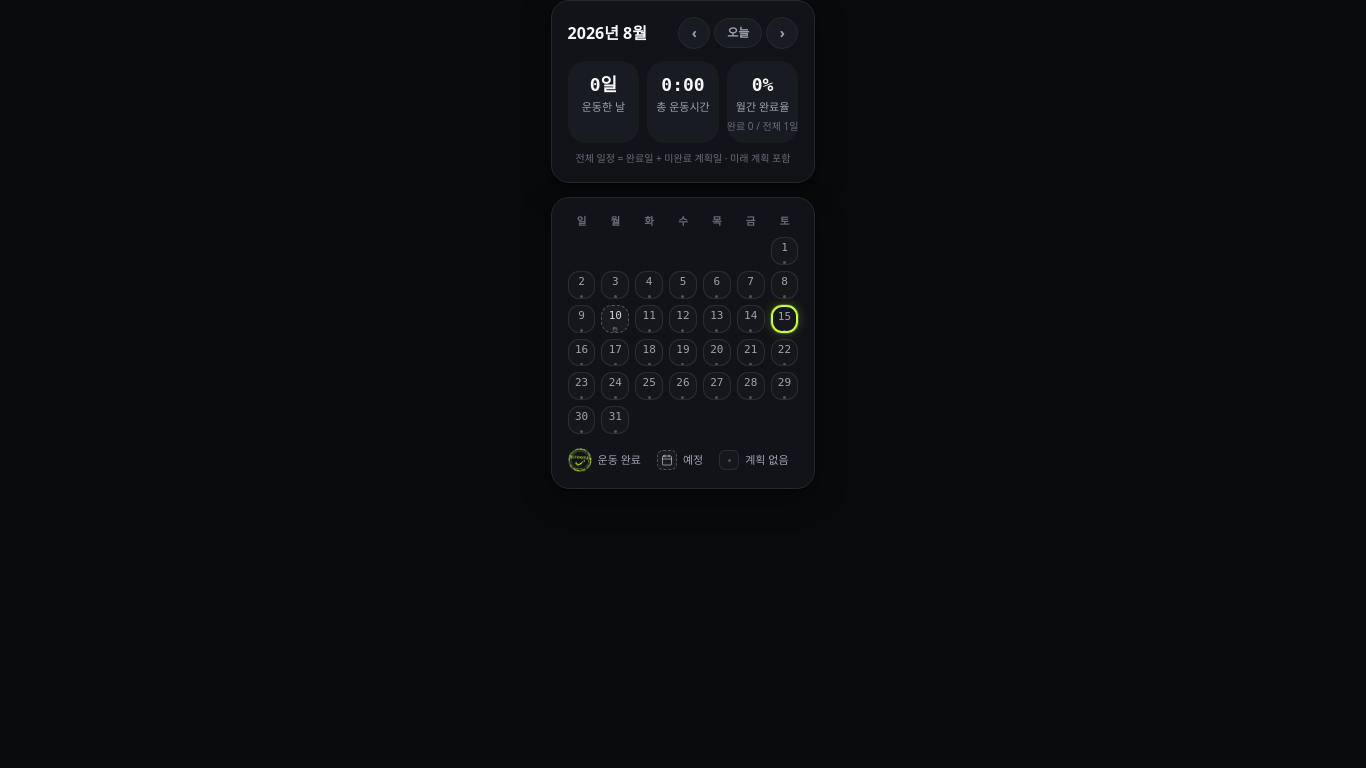
it: CalendarView — 지난 계획은 기록으로 남는다 (2026-10-07) › 지난 일반 계획에는 수정·삭제·날짜 이동이 모두 없다
Expected: the heading "2026년 8월" is shown, [568,21,647,45]
Click the button named "8월 10일,": (615, 319) [601,305,629,333]
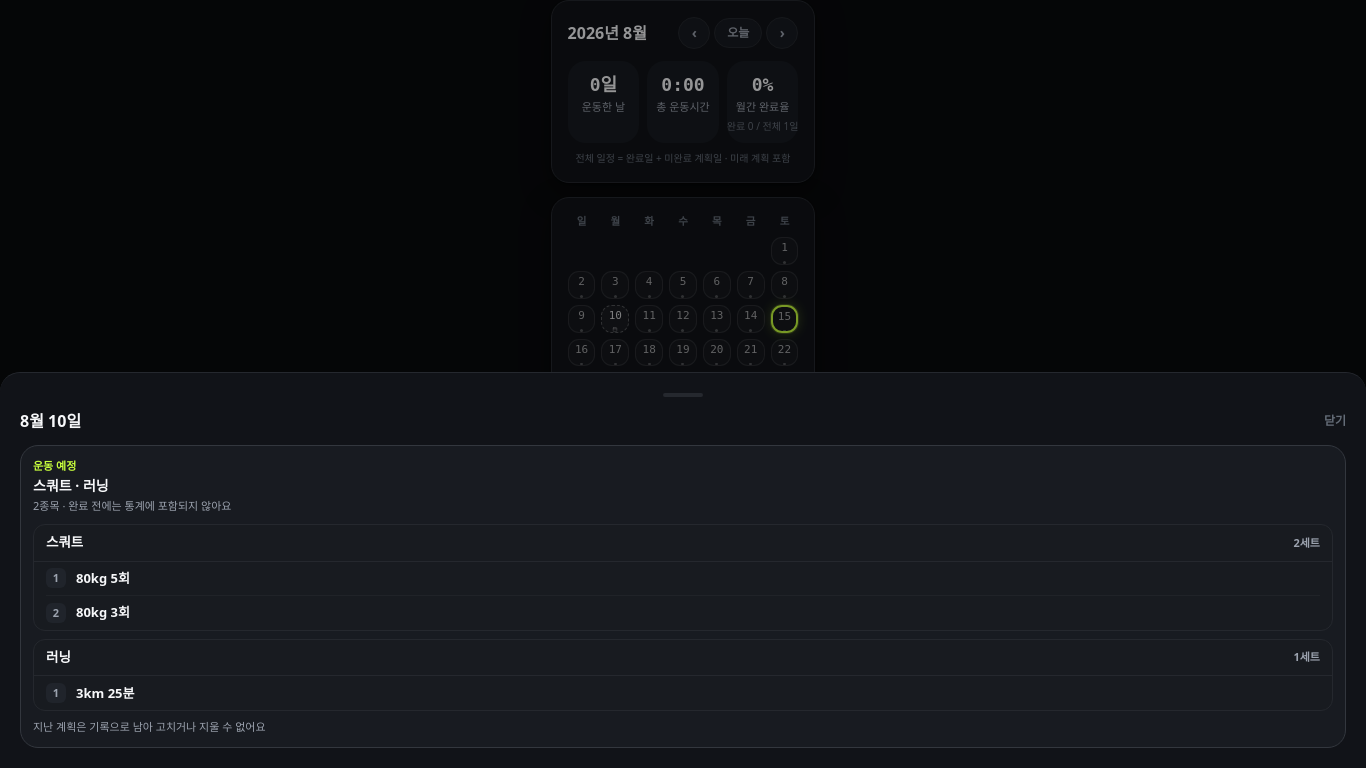
Expected: the text "지난 계획은 기록으로 남아 고치거나 지울 수 없어요" is shown, [33,719,266,734]
